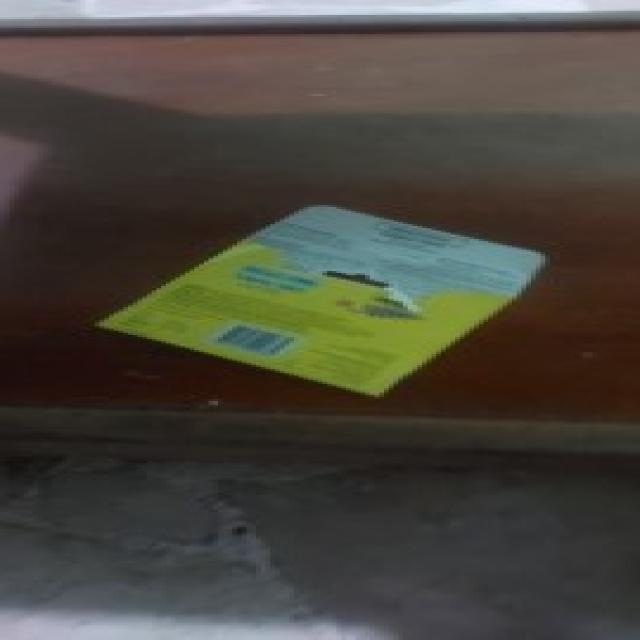Cacat: (93, 205, 548, 398)
Kemasan: (316, 264, 444, 322)
